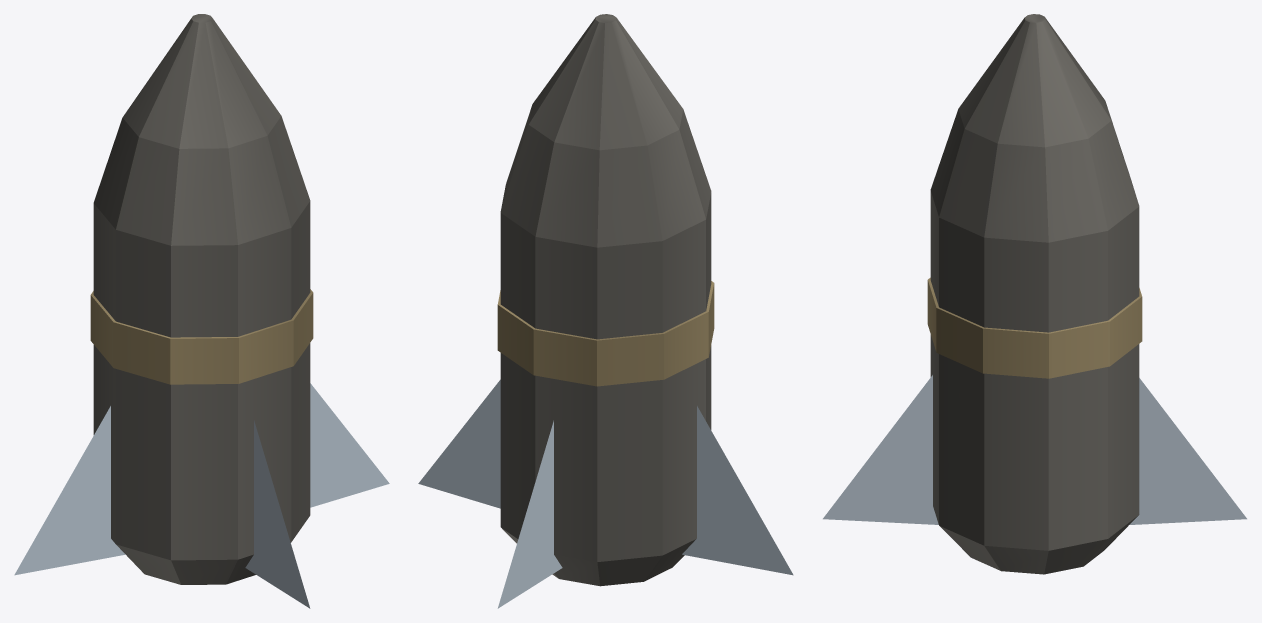
The model's file is 2062_SeekingMissiles_Projectile.fbx.
The picture shows the model from 3 angles, left to right: view 1: azimuth 30°, elevation 25°; view 2: azimuth 150°, elevation 25°; view 3: azimuth 270°, elevation 25°; orthographic projection. The views are drawn at different scales.
Parts seen in each view (by area): view 1: PART_MissileSegmentedBronzeShell, PART_MissileWarmMetalBand, PART_MissileFin2, PART_MissileFin0, PART_MissileFin3; view 2: PART_MissileSegmentedBronzeShell, PART_MissileWarmMetalBand, PART_MissileFin2, PART_MissileFin0, PART_MissileFin1; view 3: PART_MissileSegmentedBronzeShell, PART_MissileWarmMetalBand, PART_MissileFin3, PART_MissileFin1.
Part boxes in pixels (box(x1,y1,x2,y2)): PART_MissileSegmentedBronzeShell: box(93, 14, 310, 584); PART_MissileWarmMetalBand: box(90, 289, 313, 384); PART_MissileFin2: box(14, 406, 125, 575); PART_MissileFin0: box(310, 383, 389, 507); PART_MissileFin3: box(245, 420, 310, 608); PART_MissileSegmentedBronzeShell: box(500, 14, 711, 586); PART_MissileWarmMetalBand: box(497, 281, 714, 386); PART_MissileFin2: box(682, 406, 793, 575); PART_MissileFin0: box(418, 379, 500, 508); PART_MissileFin1: box(497, 420, 562, 608); PART_MissileSegmentedBronzeShell: box(930, 14, 1139, 574); PART_MissileWarmMetalBand: box(927, 277, 1142, 378); PART_MissileFin3: box(823, 375, 938, 524); PART_MissileFin1: box(1129, 378, 1246, 524).
Bounding box in the file's own units: 60 × 82 × 60.
